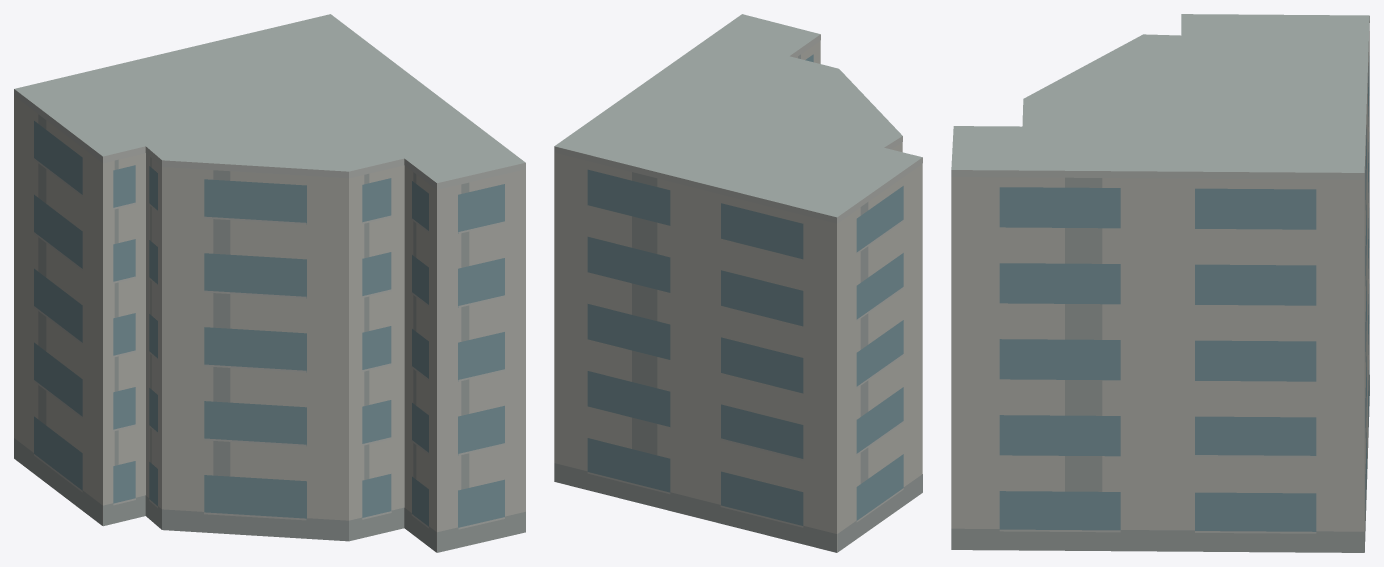
Rendered from survey-upis-32652162.glb.
3 views of the same model, side by side, from view 1: azimuth 30°, elevation 25°; view 2: azimuth 150°, elevation 25°; view 3: azimuth 270°, elevation 25° (orthographic). The views are drawn at different scales.
Visible parts, largest first — view 1: survey-upis-32652162.tmp; view 2: survey-upis-32652162.tmp; view 3: survey-upis-32652162.tmp.
Part boxes in pixels (x1,y1,x2,y2): survey-upis-32652162.tmp: (14, 14, 525, 552); survey-upis-32652162.tmp: (554, 14, 922, 552); survey-upis-32652162.tmp: (951, 14, 1369, 552).
Size of the model in its own units: 11.94 by 13.3 by 13.28.
